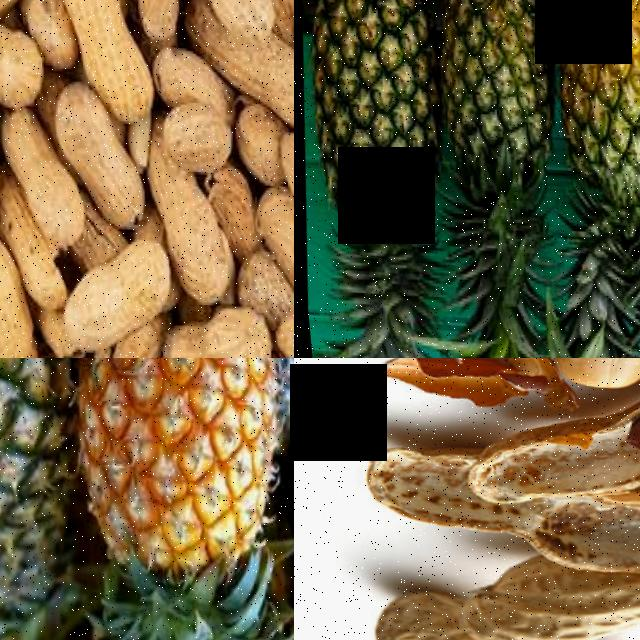peanuts: (445, 564, 640, 640), (154, 180, 232, 305), (218, 34, 294, 139), (51, 264, 135, 356), (48, 0, 133, 84), (45, 80, 120, 173), (151, 101, 234, 181), (14, 158, 83, 251), (159, 301, 267, 358), (539, 358, 640, 391)
pineapple: (46, 358, 294, 640), (294, 0, 461, 318), (423, 0, 574, 263), (538, 0, 640, 281), (0, 358, 98, 615)
